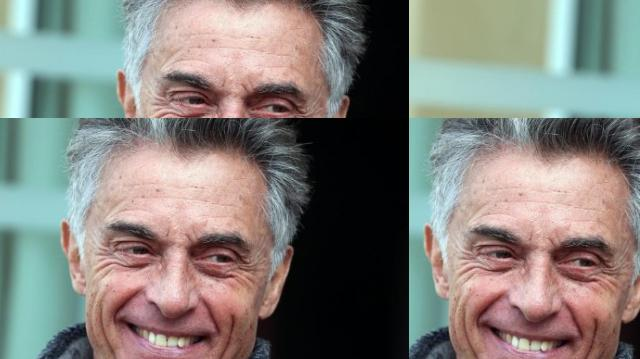crows_feet: (600, 260, 622, 290), (454, 246, 478, 270), (180, 349, 229, 359)
forehead: (207, 240, 305, 276), (206, 196, 268, 232), (107, 68, 149, 116), (574, 15, 604, 39), (0, 102, 43, 118), (526, 194, 562, 210), (468, 202, 494, 222), (618, 12, 640, 35)
frown_line: (623, 57, 640, 89), (542, 231, 560, 250)
gummy_smile: (566, 304, 584, 336), (478, 294, 500, 320)
masseter: (458, 306, 472, 342), (586, 314, 600, 348), (466, 342, 486, 359), (573, 351, 587, 359)
